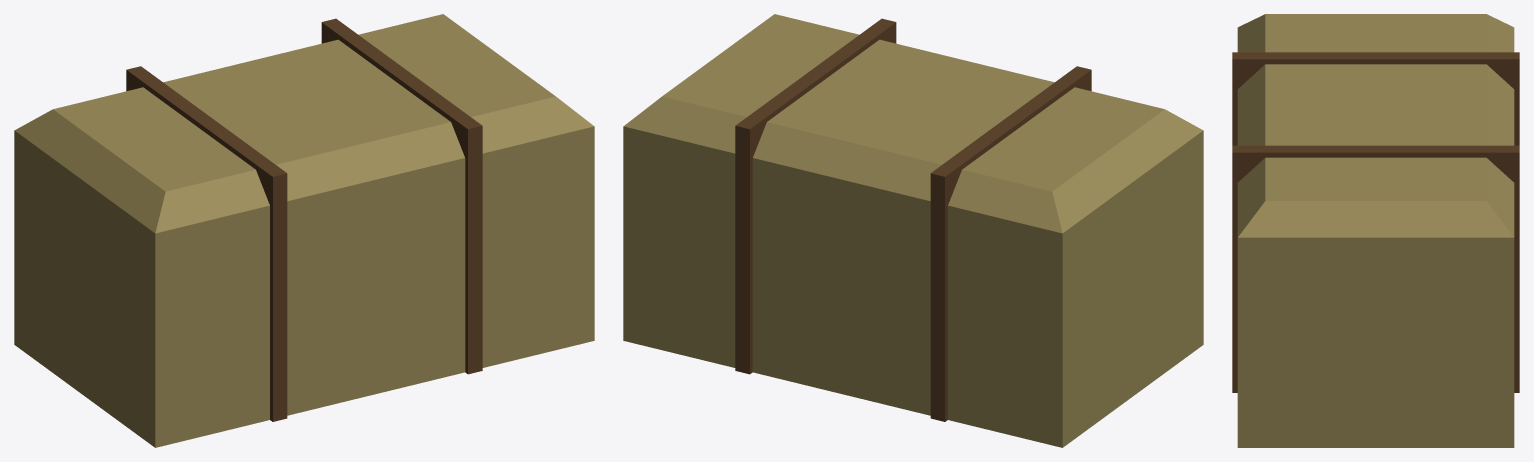
Rendered from HayBale.fbx.
3 renders of one model, left to right at view 1: azimuth 30°, elevation 25°; view 2: azimuth 150°, elevation 25°; view 3: azimuth 270°, elevation 25°, orthographic.
Parts seen in each view (by area): view 1: HayBale; view 2: HayBale; view 3: HayBale.
Part boxes in pixels (x1,y1,x2,y2): HayBale: [14, 14, 594, 447]; HayBale: [623, 14, 1203, 447]; HayBale: [1232, 14, 1519, 447].
Bounding box in the file's own units: 0.9 × 0.48 × 0.52.
